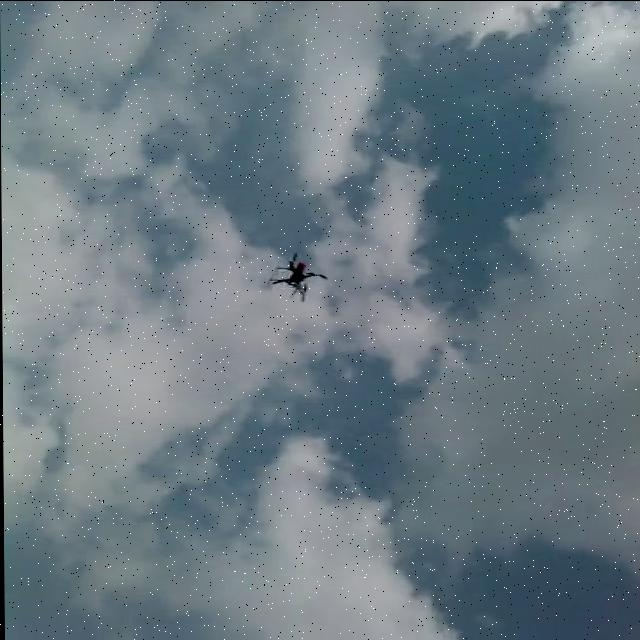drone: (270, 249, 329, 301)
